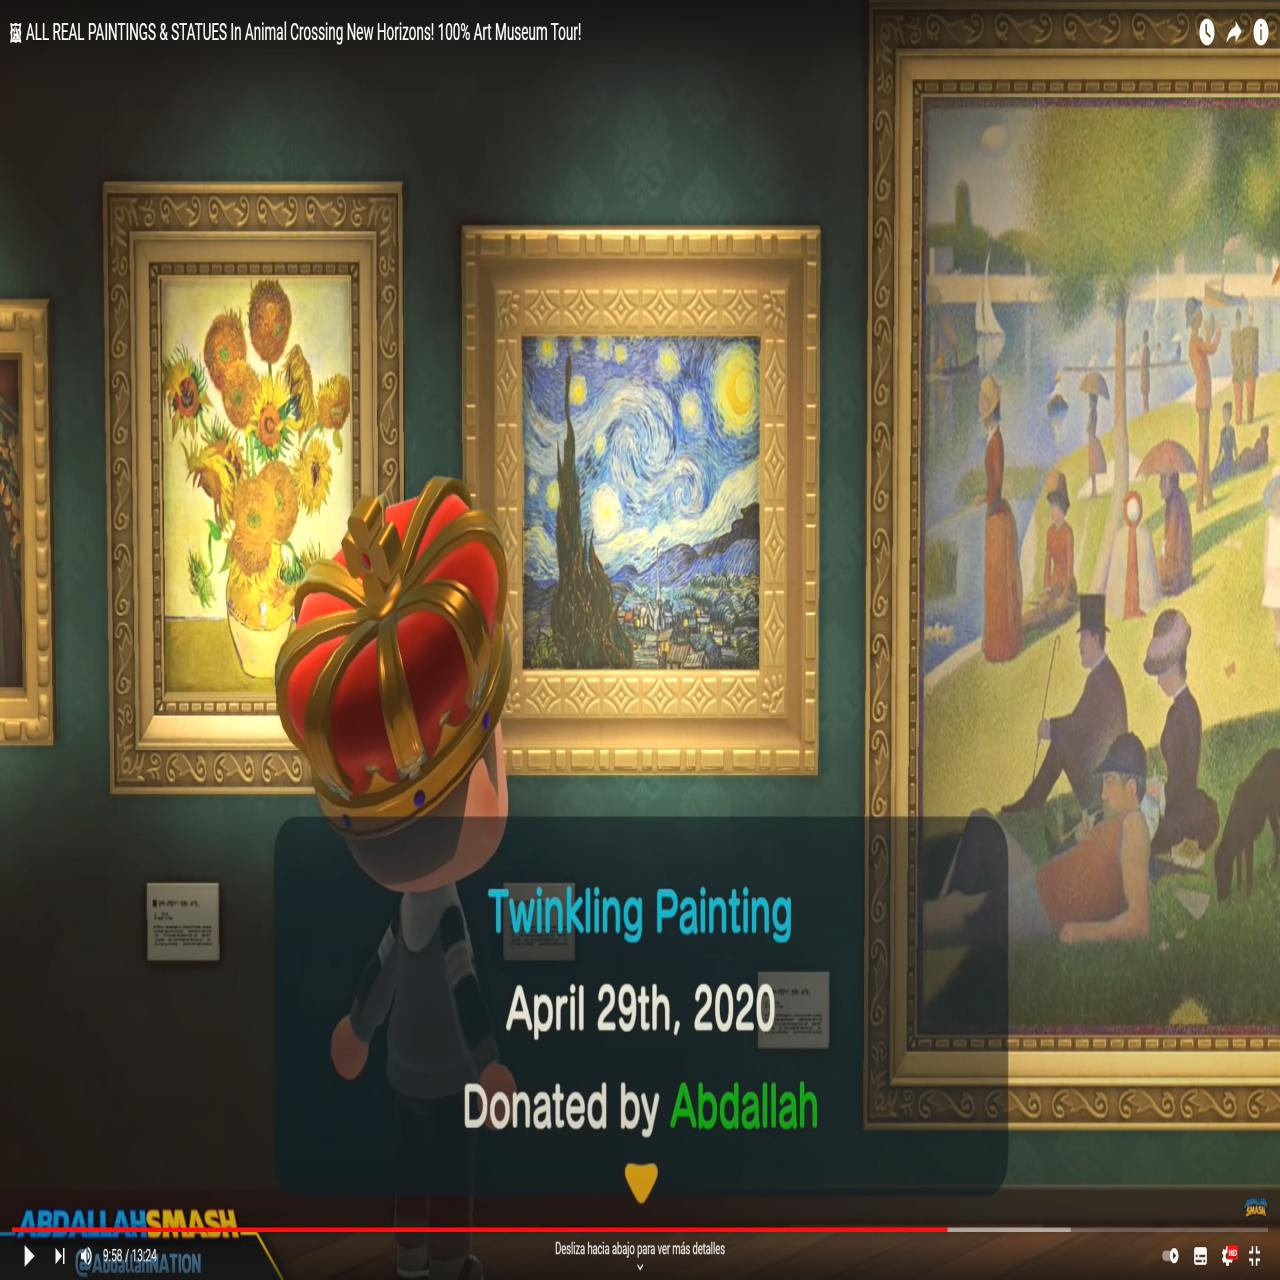StarryNight: (526, 339, 758, 666)
SundayOn: (930, 105, 1280, 1035)
Sunflower: (166, 282, 345, 708)
